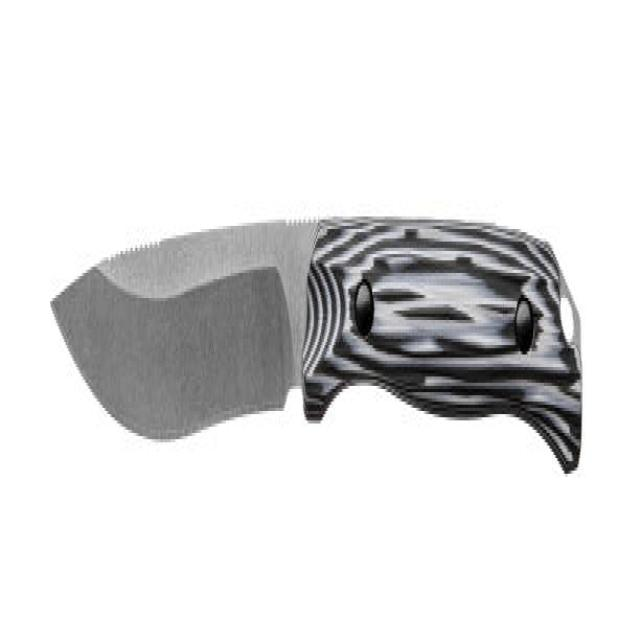knife: (45, 205, 586, 490)
